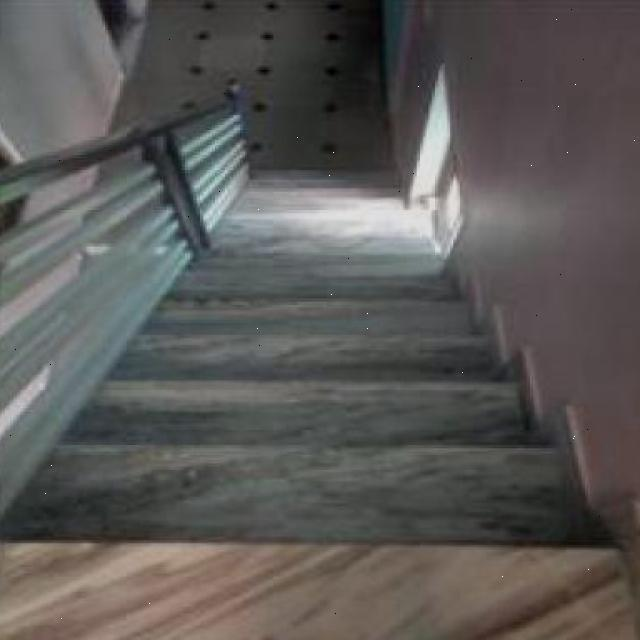stair: (23, 345, 518, 588)
